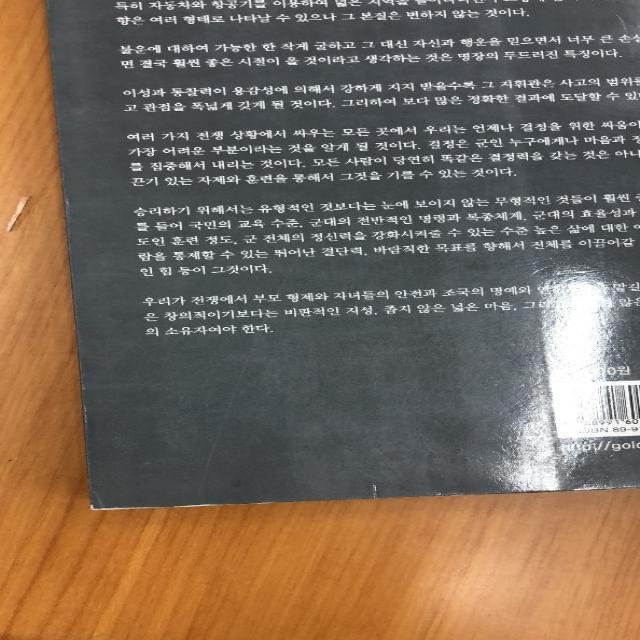Wornout: (171, 486, 279, 513), (86, 490, 168, 515), (429, 479, 479, 501)
